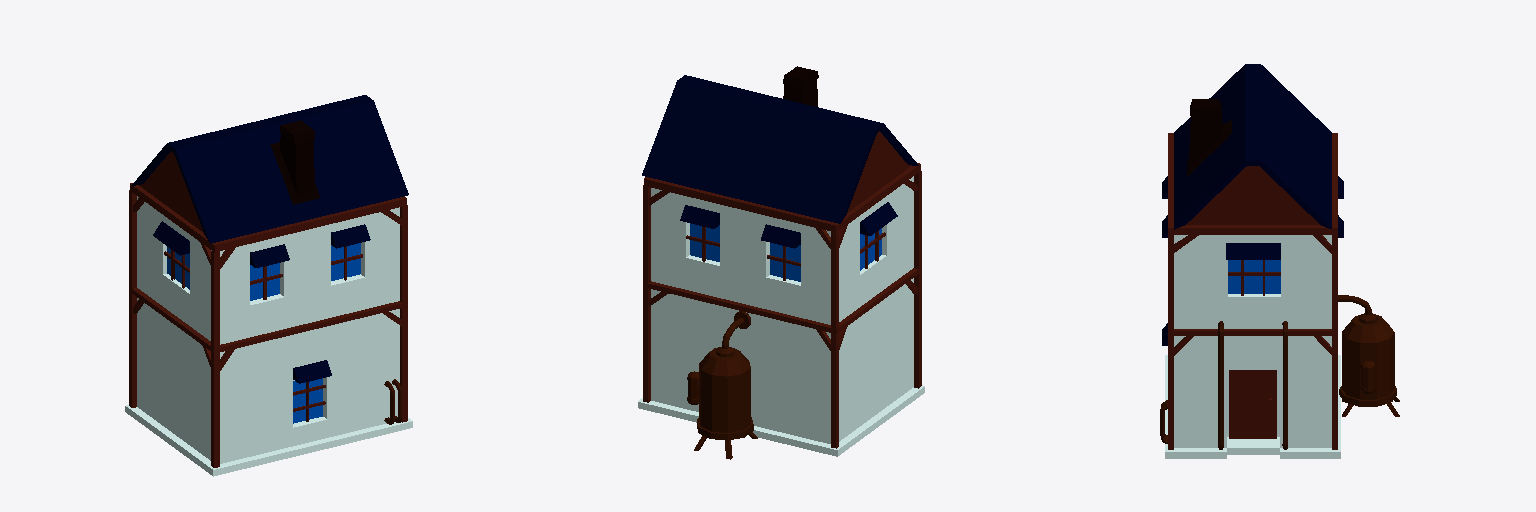
File: house_with_tank_2story.obj
3 renders of one model, left to right at view 1: azimuth 30°, elevation 25°; view 2: azimuth 150°, elevation 25°; view 3: azimuth 270°, elevation 25°, orthographic.
Parts seen in each view (by area): view 1: house; view 2: house; view 3: house, gear.
Part boxes in pixels (x1,y1,x2,y2): house: (125,95,412,476); house: (638,66,924,459); house: (1162,64,1399,458); gear: (1160,321,1287,449).
Size of the model in its own units: 8.97 by 12.87 by 9.02.